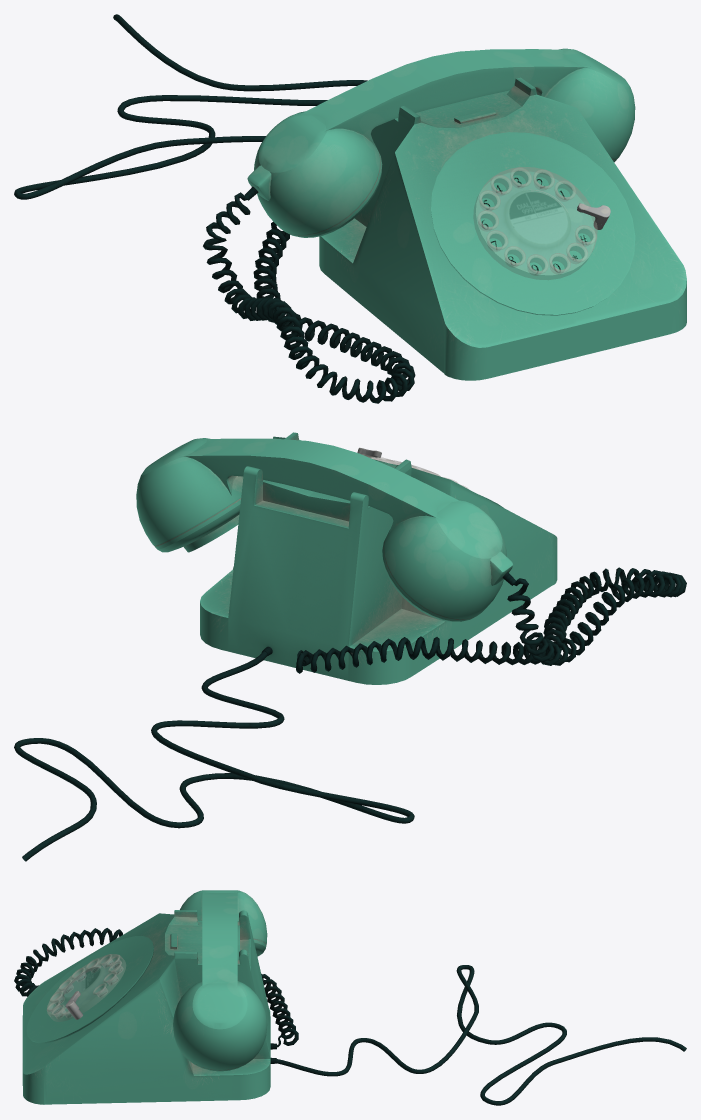
The model's file is corded_retro_phone.glb.
3 views of the same model, one above another, from view 1: azimuth 30°, elevation 25°; view 2: azimuth 150°, elevation 25°; view 3: azimuth 270°, elevation 25° (orthographic). The views are drawn at different scales.
Parts seen in each view (by area): view 1: phone_low.001, phone_low.002, sellphone_low.002, cable_low.002, small_low.029; view 2: phone_low.001, sellphone_low.002, cable_low.002; view 3: phone_low.001, sellphone_low.002, cable_low.002, phone_low.002, small_low.029.
Part boxes in pixels (<box>): phone_low.001: <box>319,77,686,380</box>; phone_low.002: <box>431,132,635,315</box>; sellphone_low.002: <box>244,48,635,237</box>; cable_low.002: <box>14,14,415,403</box>; small_low.029: <box>454,108,610,279</box>; phone_low.001: <box>200,432,557,684</box>; sellphone_low.002: <box>136,438,515,621</box>; cable_low.002: <box>14,567,686,861</box>; phone_low.001: <box>22,910,270,1104</box>; sellphone_low.002: <box>173,890,267,1071</box>; cable_low.002: <box>14,928,686,1105</box>; phone_low.002: <box>26,936,153,1043</box>; small_low.029: <box>47,933,276,1063</box>.
Bounding box in the file's own units: 2.34 × 0.972 × 4.19.
Materials: 2 (2 with a texture image).
